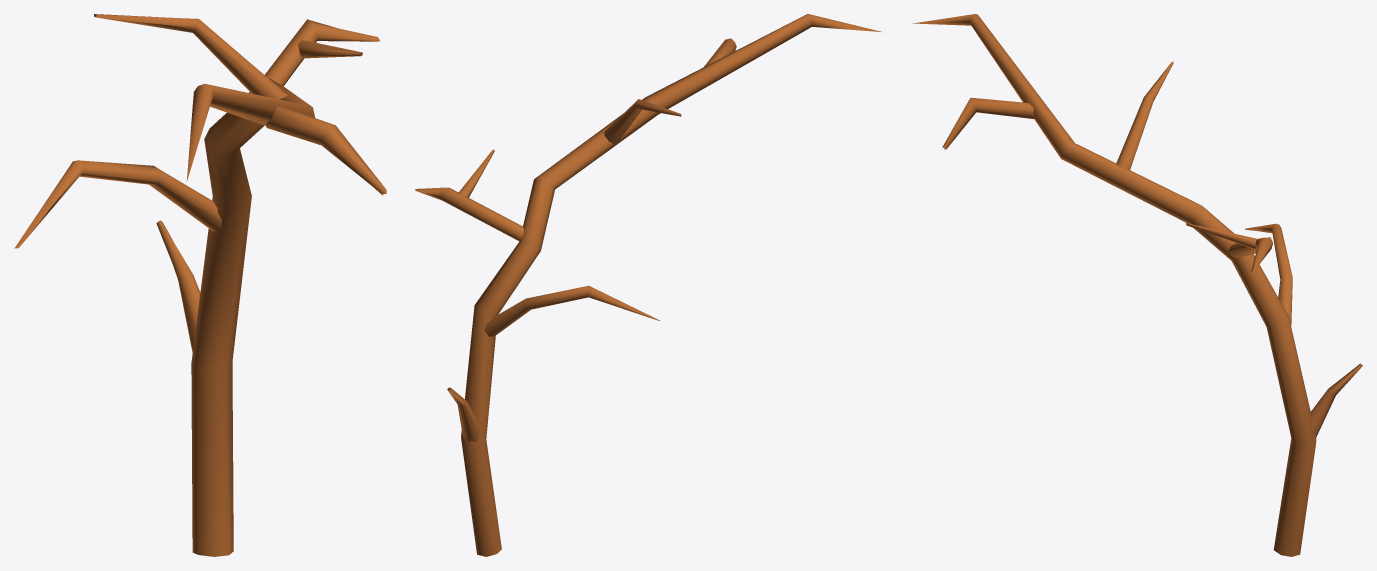
Rendered from treeTrunk3.glb.
The picture shows the model from 3 angles, left to right: view 1: azimuth 30°, elevation 25°; view 2: azimuth 150°, elevation 25°; view 3: azimuth 270°, elevation 25°; orthographic projection. The views are drawn at different scales.
Parts seen in each view (by area): view 1: treeBody.015; view 2: treeBody.015; view 3: treeBody.015.
Boxes of the visible parts, box(x1,y1,x2,y2) form: treeBody.015: box(14, 14, 386, 556); treeBody.015: box(415, 14, 882, 556); treeBody.015: box(912, 14, 1362, 556).
Bounding box in the file's own units: 3.52 × 5.23 × 4.65.
Materials: 1 (1 with a texture image).
